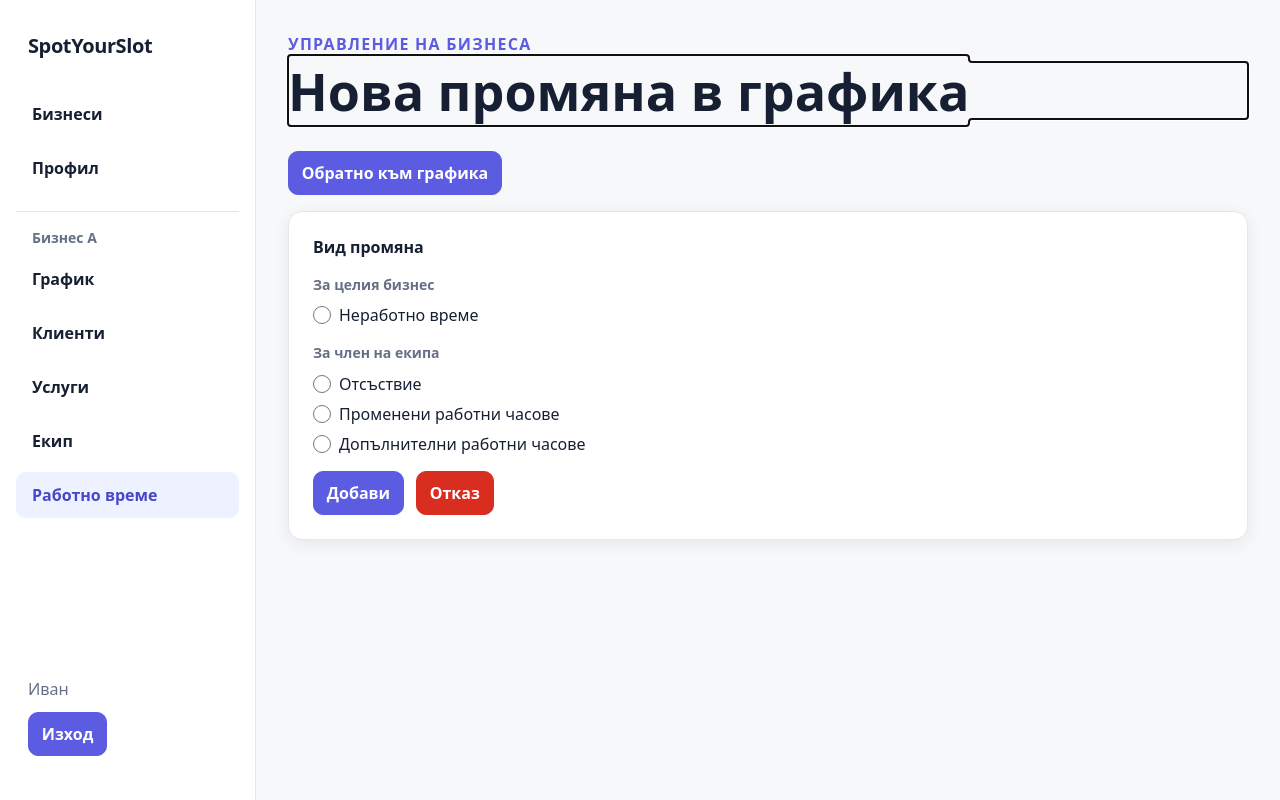
shared unsaved-changes guard › guards sidebar navigation, preserves values on reject and continues on confirm
This screenshot has width=1280, height=800.
Click the radio button labelled "Неработно време".
click(322, 315)  # box [313,306,331,324]
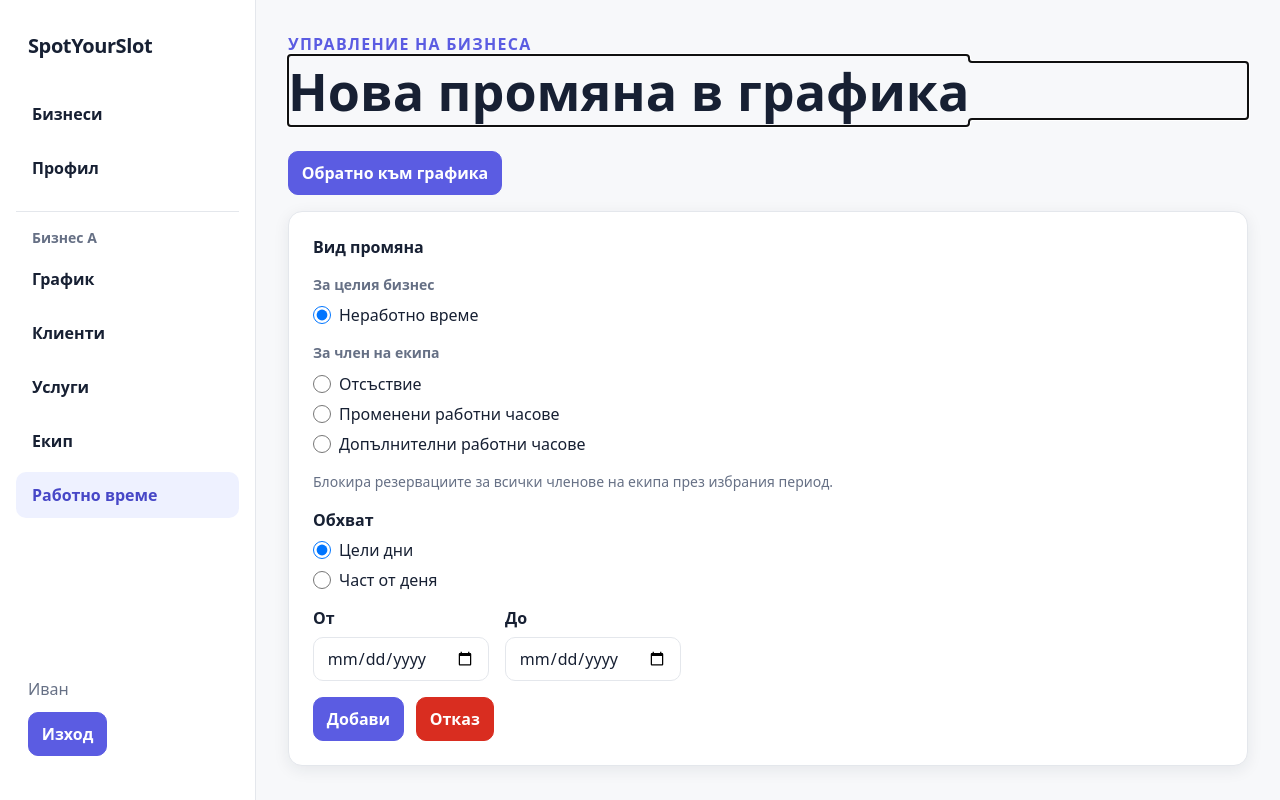
Type "2026-12-24" into the date field labelled "От".
click(401, 659); type("2026-12-24")  # box [313,637,489,681]
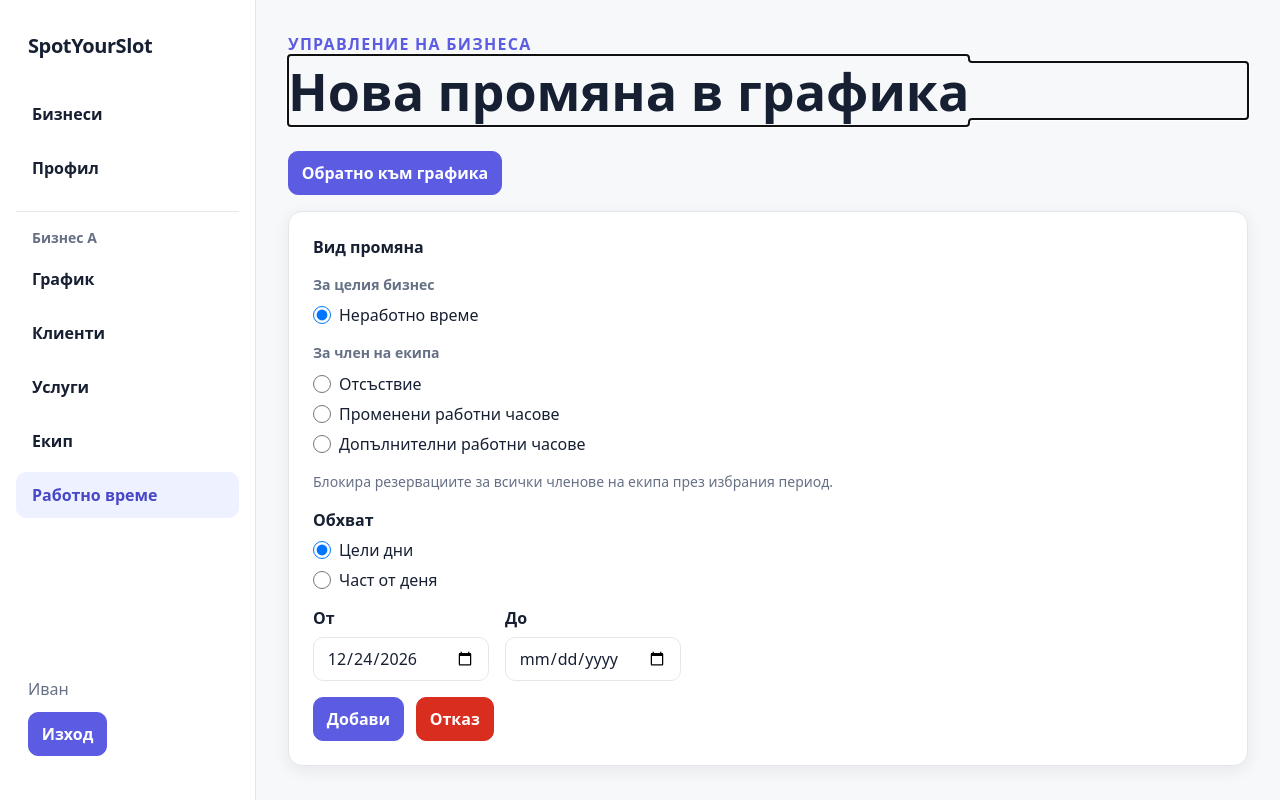
Click the link "Екип".
click(52, 441)  # box [32,430,73,452]
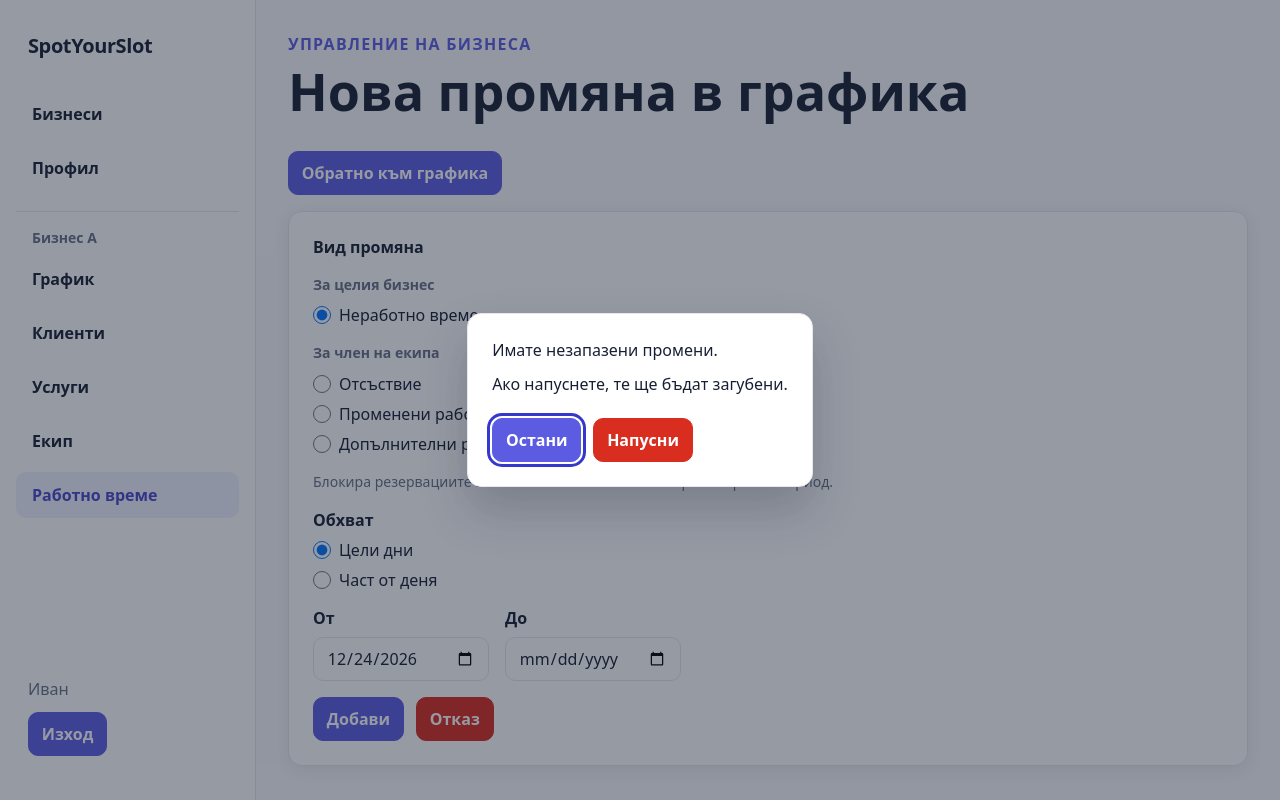
Result: the dialog "незапазени промени" is shown at [467,313,813,487]
Click the button "Остани".
click(537, 440)  # box [492,418,581,462]
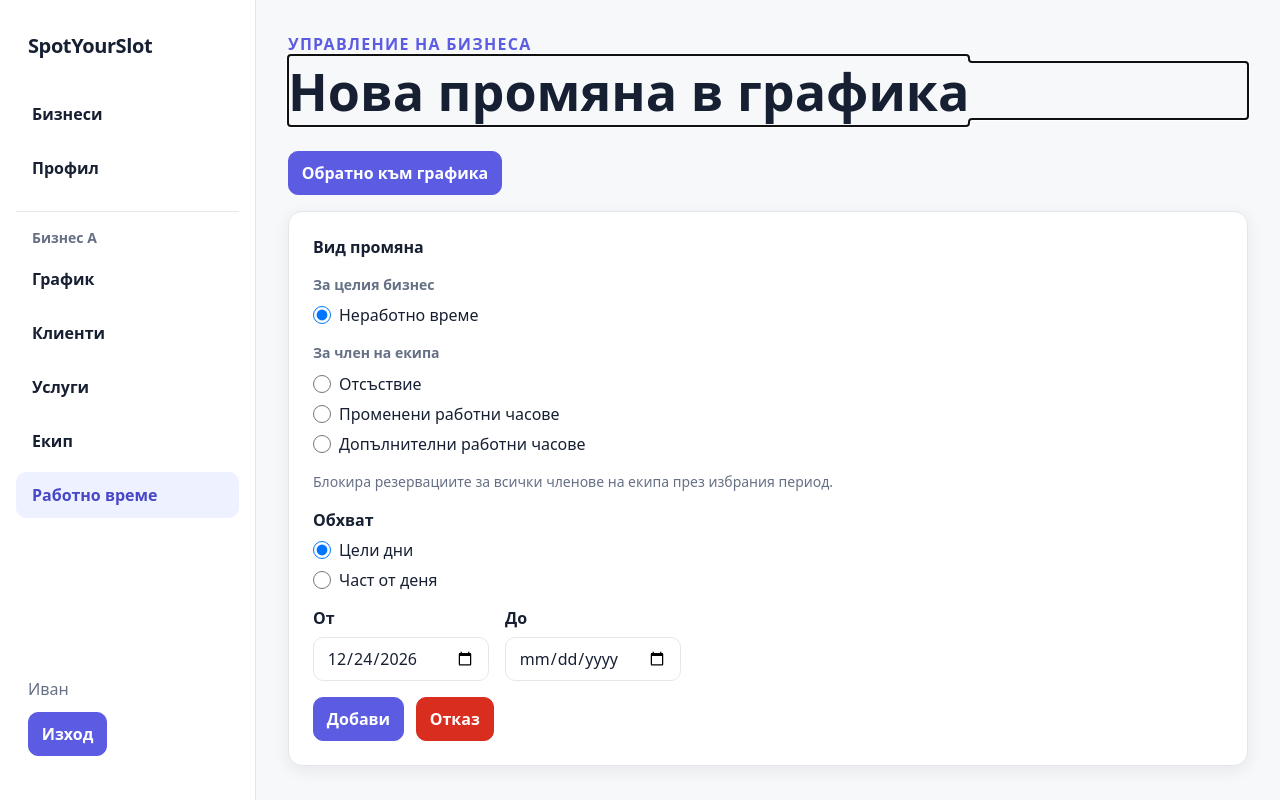
Click the link "Екип".
click(52, 441)  # box [32,430,73,452]
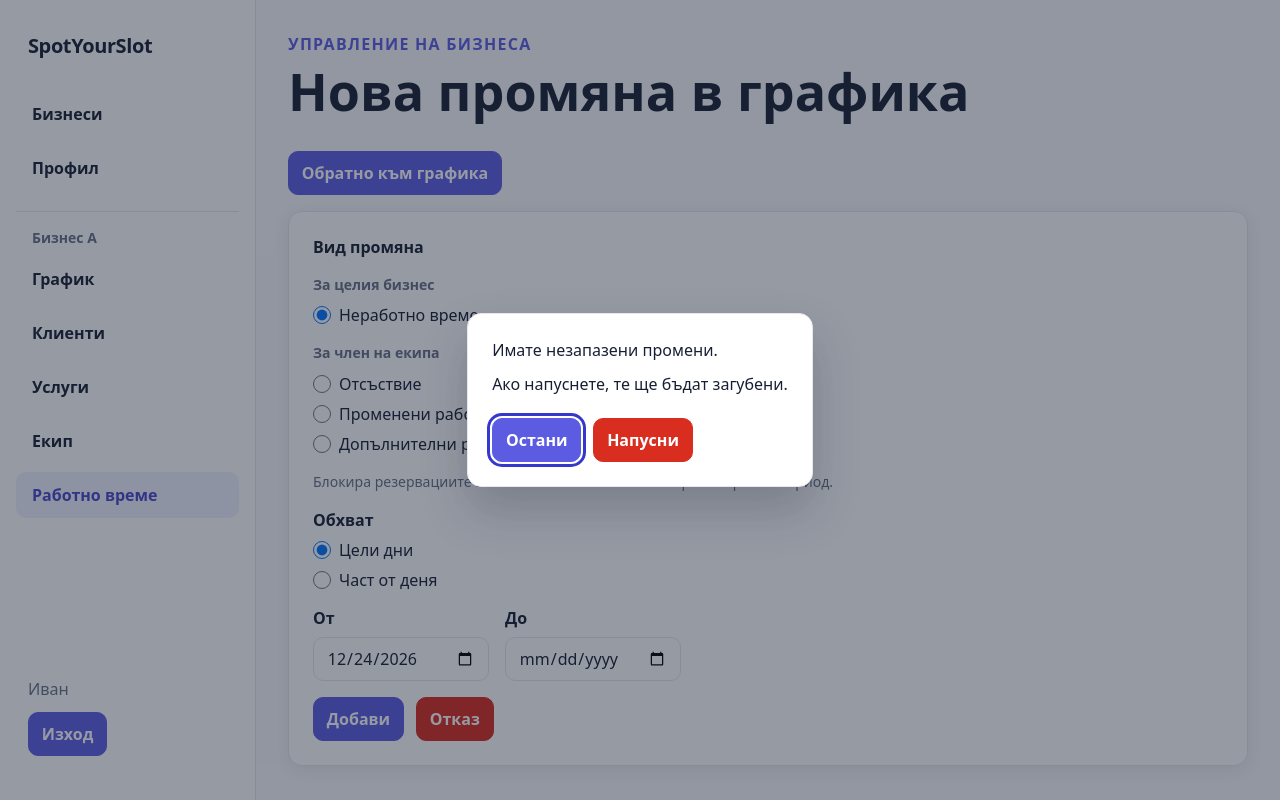
Click the button "Напусни".
click(643, 440)  # box [593,418,693,462]
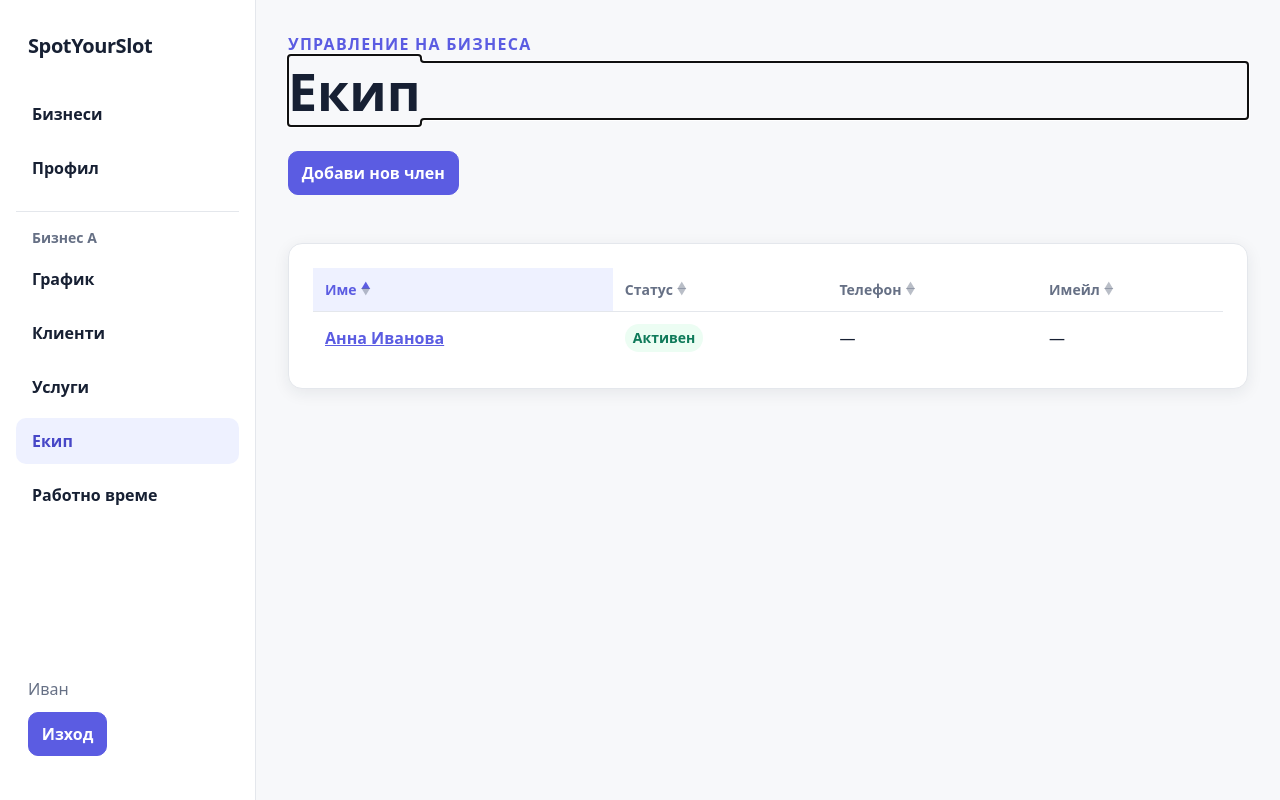
Result: the heading "Екип" is shown at [288,55,421,126]
